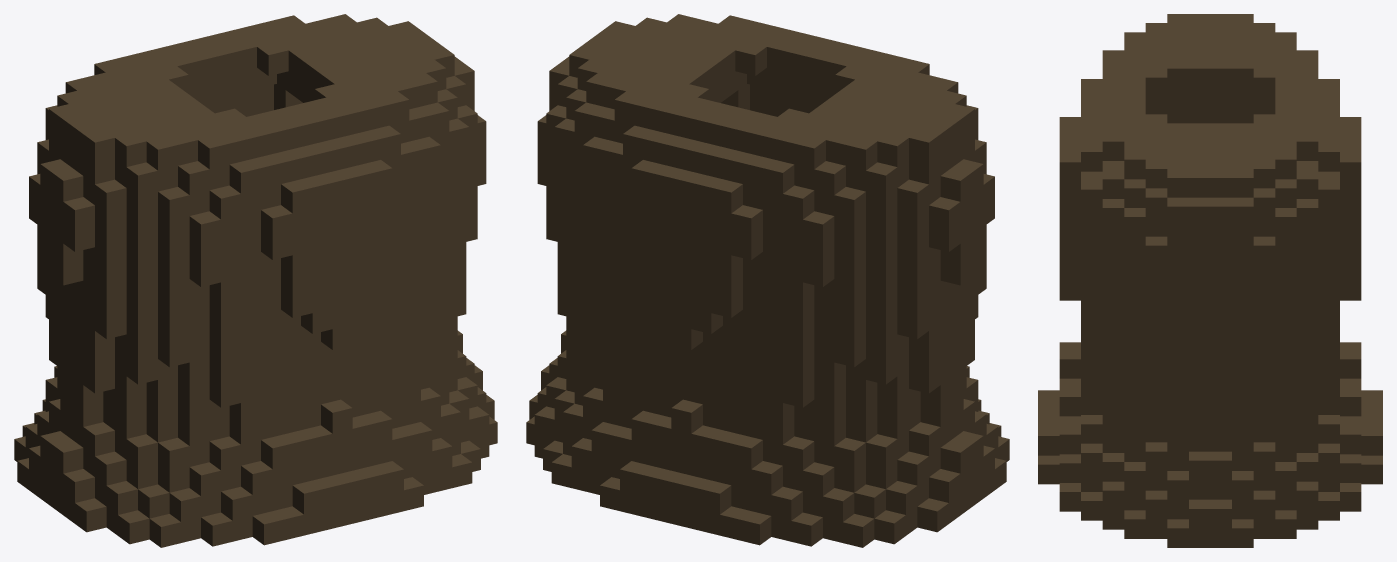
File: quilted_robe_lod1.glb
The picture shows the model from 3 angles, left to right: view 1: azimuth 30°, elevation 25°; view 2: azimuth 150°, elevation 25°; view 3: azimuth 270°, elevation 25°; orthographic projection. The views are drawn at different scales.
Parts seen in each view (by area): view 1: quilted_robe_lod1; view 2: quilted_robe_lod1; view 3: quilted_robe_lod1.
Part boxes in pixels (left/top/right/bottom): quilted_robe_lod1: left=14, top=14, right=497, bottom=547; quilted_robe_lod1: left=526, top=14, right=1009, bottom=547; quilted_robe_lod1: left=1038, top=14, right=1382, bottom=547.
Size of the model in its own units: 0.504 by 0.432 by 0.384.
